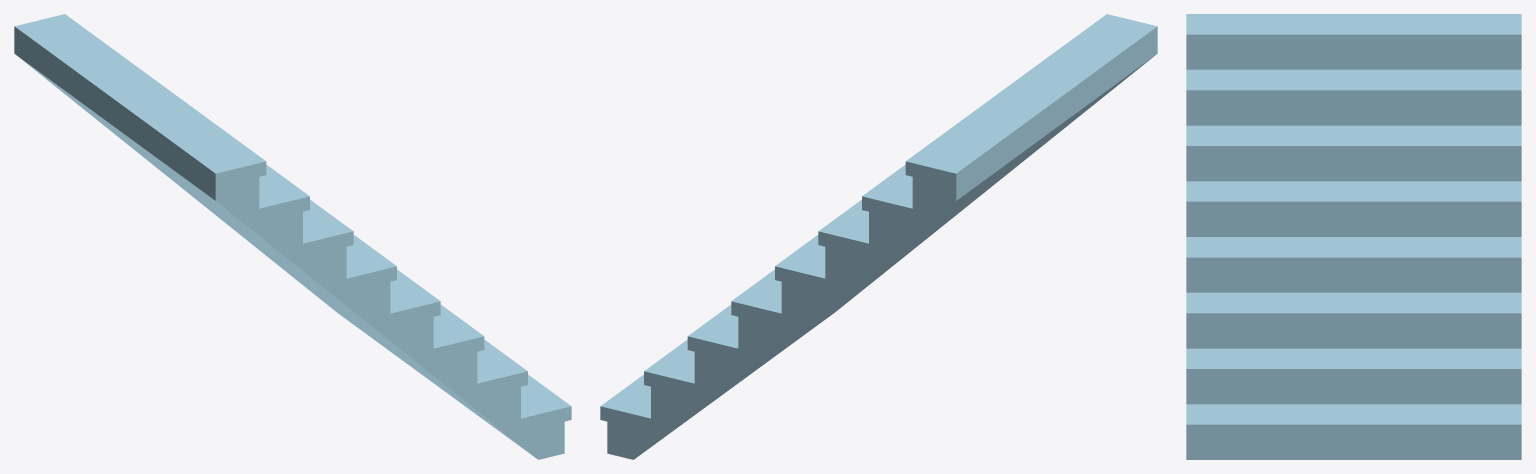
Rendered from stairsWideStone.glb.
3 renders of one model, left to right at view 1: azimuth 30°, elevation 25°; view 2: azimuth 150°, elevation 25°; view 3: azimuth 270°, elevation 25°, orthographic. The views are drawn at different scales.
Visible parts, largest first — view 1: stairsWideStone; view 2: stairsWideStone; view 3: stairsWideStone.
Part boxes in pixels (box(x1,y1,x2,y2)): stairsWideStone: box(14, 14, 571, 459); stairsWideStone: box(600, 14, 1157, 459); stairsWideStone: box(1186, 14, 1521, 459).
Bounding box in the file's own units: 3.06 × 3 × 3.
